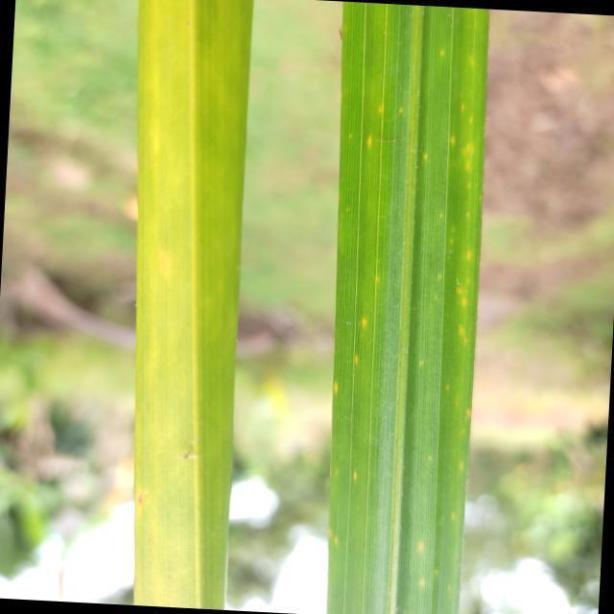nitrogen: (324, 0, 491, 614), (128, 0, 254, 614)
